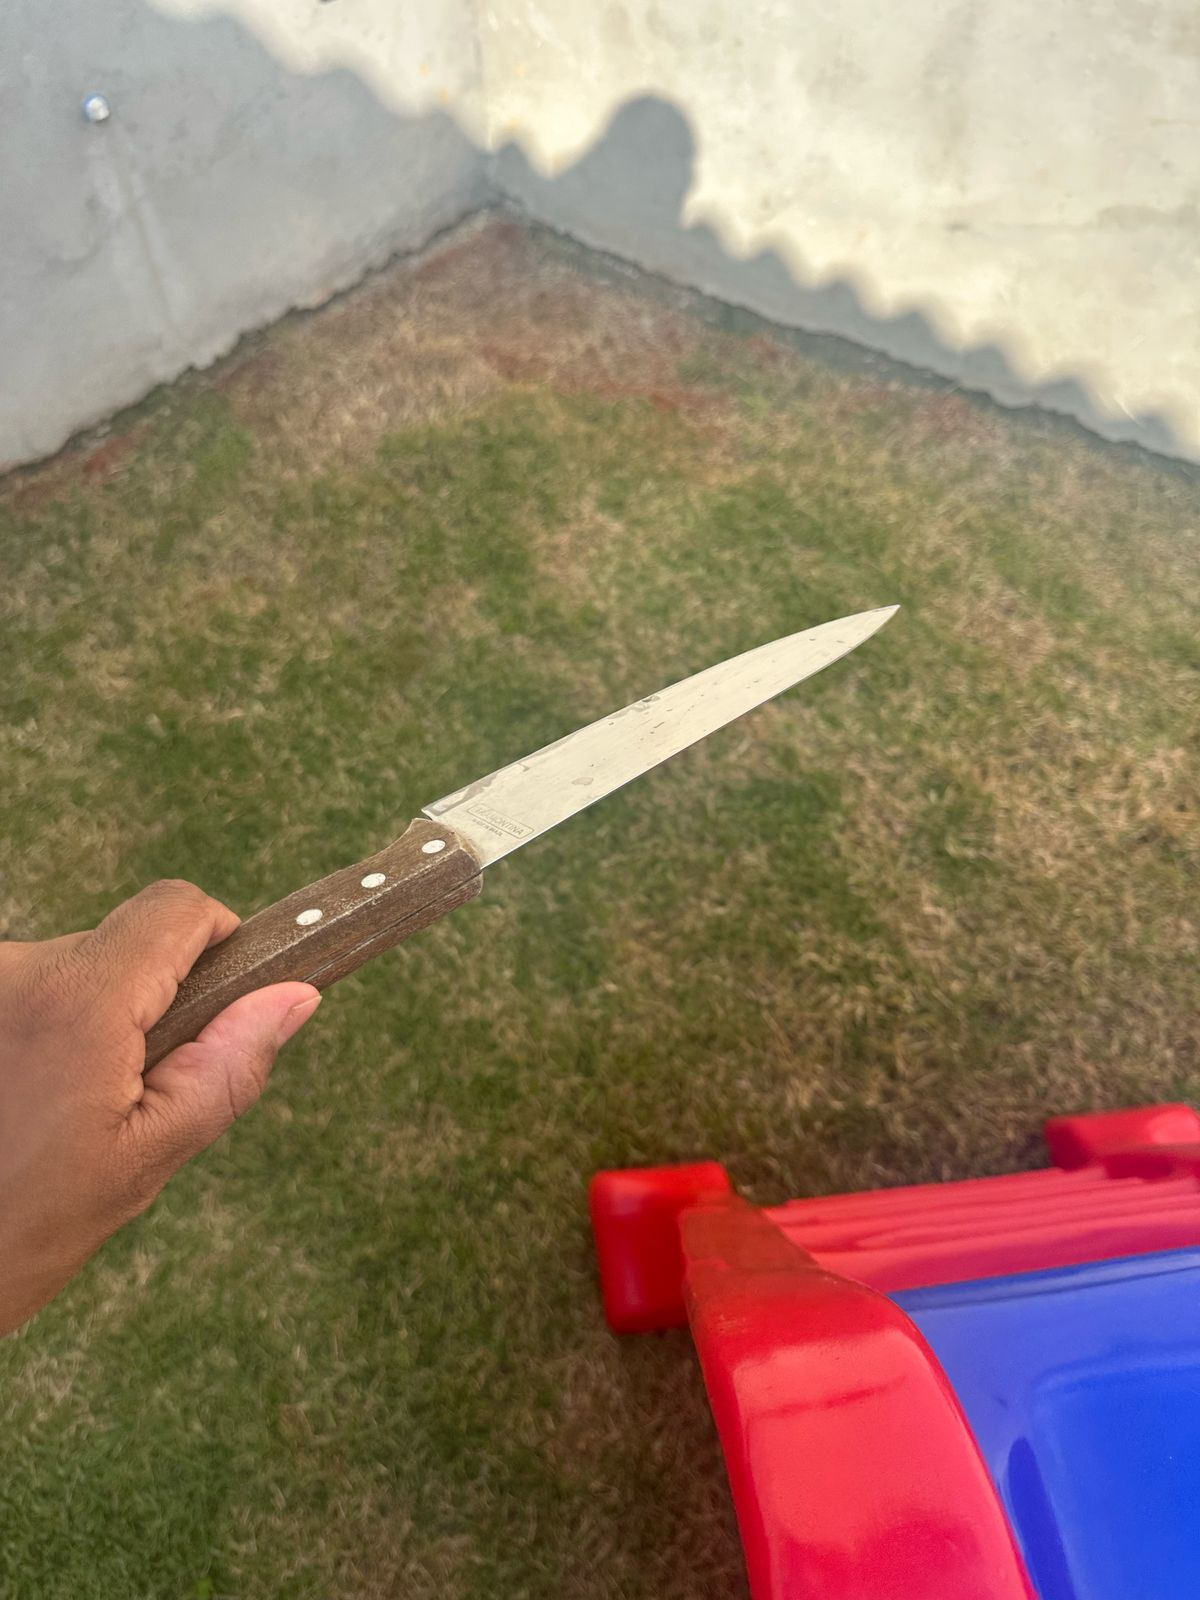faca: (261, 579, 921, 961)
